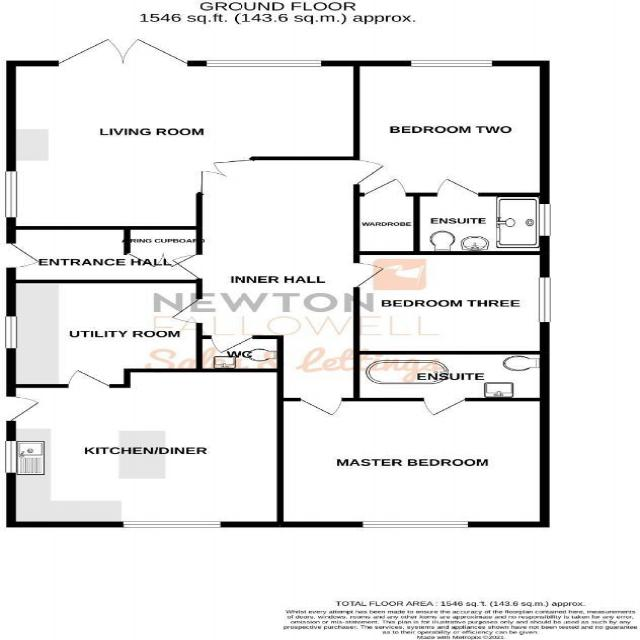DOOR: (5, 394, 44, 422), (64, 368, 112, 389), (353, 261, 388, 289), (361, 177, 410, 197), (421, 397, 469, 417), (169, 296, 203, 324), (298, 398, 345, 418), (436, 177, 480, 196)
DOUBLE DOOR: (57, 37, 191, 66)
ROOM: (0, 32, 356, 229), (5, 368, 284, 527), (276, 397, 550, 527), (352, 60, 550, 196), (5, 278, 203, 389), (353, 251, 550, 355)
WINDOW: (205, 59, 323, 68), (120, 520, 224, 530), (361, 520, 472, 529), (409, 59, 495, 68), (538, 275, 554, 323), (4, 169, 18, 219), (4, 314, 19, 350), (538, 202, 553, 238), (3, 439, 17, 475)
